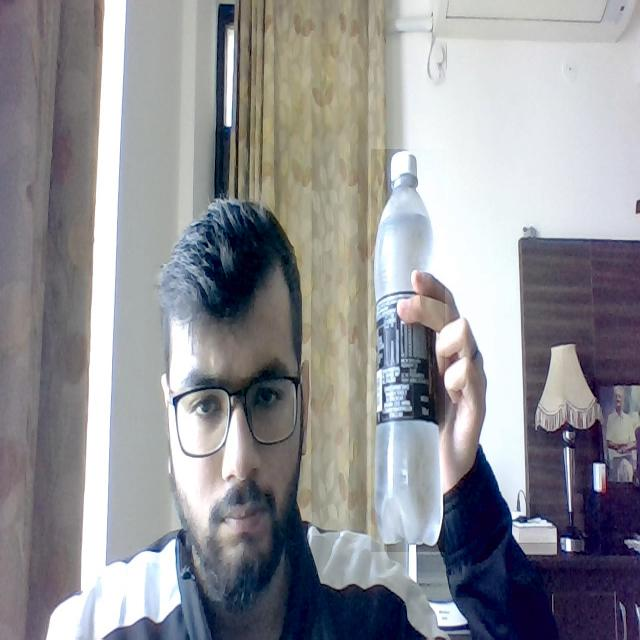full-bottle: (371, 149, 445, 552)
